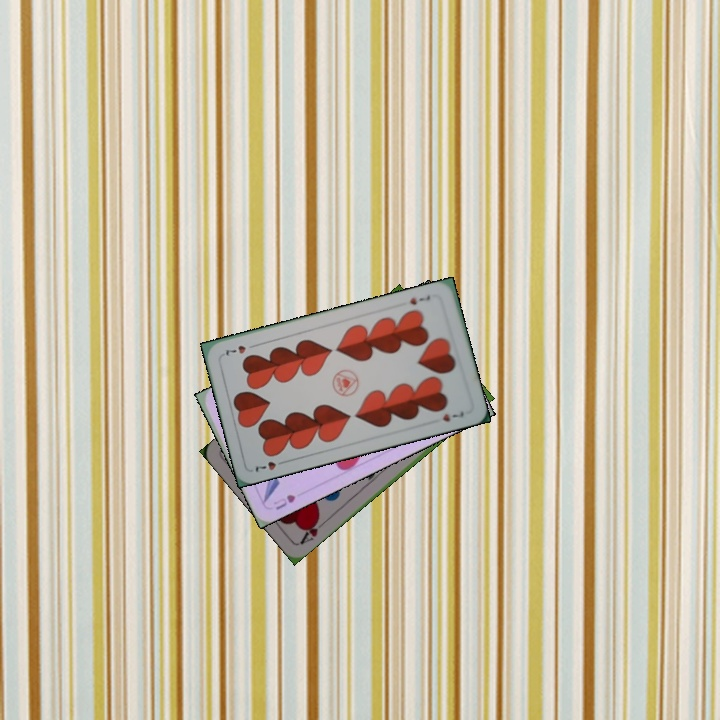H7: (251, 456, 289, 475), (406, 291, 433, 308)
HA: (295, 514, 330, 547)
HU: (269, 490, 298, 512)
